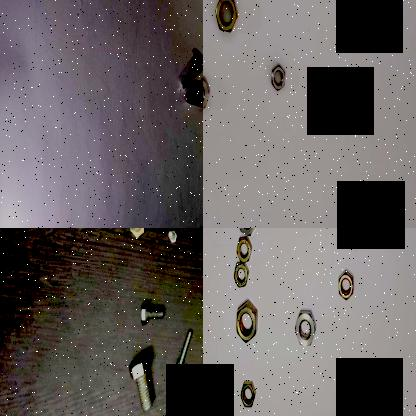Bolts: (126, 348, 156, 414), (170, 327, 194, 373), (139, 298, 168, 329), (178, 53, 203, 87), (183, 87, 203, 119), (125, 228, 146, 245), (165, 228, 178, 247)
NUTS: (233, 295, 258, 343), (292, 306, 316, 350), (212, 0, 238, 34), (334, 267, 355, 303), (230, 256, 252, 288), (236, 376, 256, 409), (232, 236, 254, 263), (268, 63, 286, 92), (203, 69, 211, 113), (232, 228, 259, 238), (350, 228, 373, 237)
